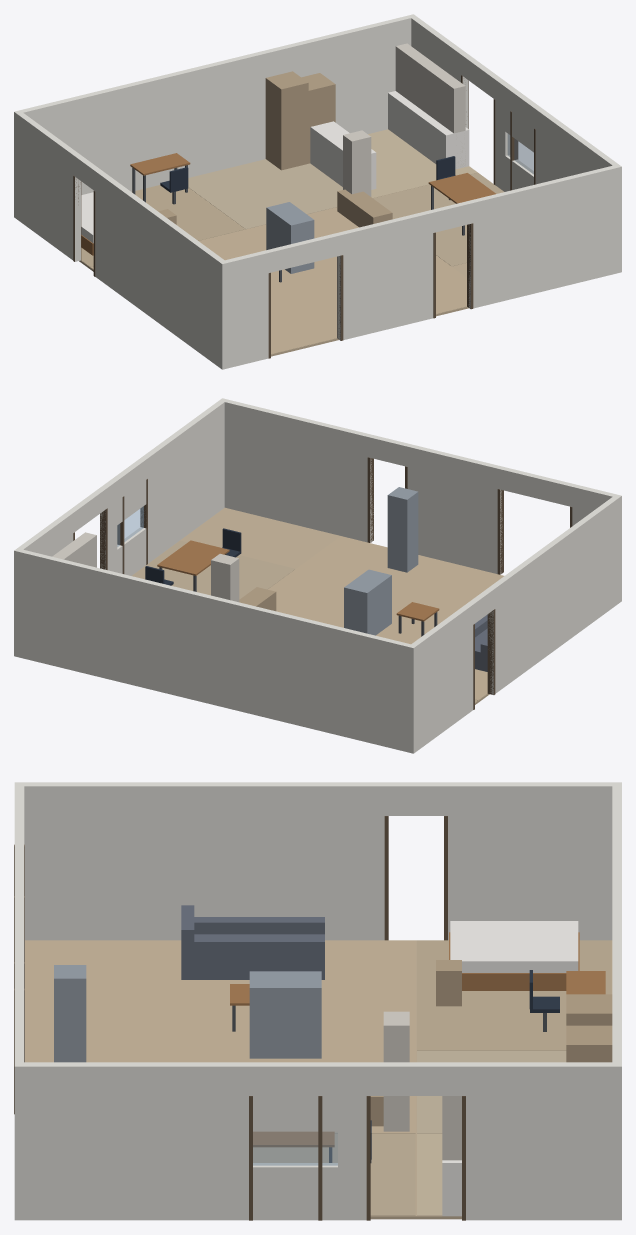
The model's file is apartment-auto2.glb.
The picture shows the model from 3 angles, top to bottom: view 1: azimuth 30°, elevation 25°; view 2: azimuth 150°, elevation 25°; view 3: azimuth 270°, elevation 25°; orthographic projection. The views are drawn at different scales.
Visible parts, largest first — view 1: wall_south (×3), wall_north, wall_west (×2), floor_living_room, wall_east (×3), floor_hallway, laundry_closet_body, upper_cabinets_east_body, counter_east_body, floor_kitchen, floor_bedroom, floor_dining_room (+17 smaller); view 2: wall_north, wall_south (×3), wall_west (×2), floor_living_room, wall_east (×3), floor, exercise_bike_body, floor_dining_room, coat_tree_body, dining_window_header, balcony_door_header, dining_table_top (+12 smaller); view 3: wall_west (×2), wall_east (×3), floor_living_room, floor_bedroom, dining_window_header, bed_mattress, exercise_bike_body, dining_window_sill, floor_dining_room, sofa_arm (×2), wall_north, sofa_seat (+22 smaller).
Boxes of the visible parts, box(x1,y1,x2,y2) form: wall_south (×3): box(219, 164, 621, 369); wall_north: box(14, 14, 416, 219); wall_west (×2): box(17, 113, 224, 366); floor_living_room: box(91, 207, 466, 354); wall_east (×3): box(411, 16, 618, 191); floor_hallway: box(188, 159, 342, 229); laundry_closet_body: box(265, 71, 308, 170); upper_cabinets_east_body: box(395, 43, 465, 167); counter_east_body: box(388, 91, 469, 169); floor_kitchen: box(368, 129, 477, 198); floor_bedroom: box(81, 185, 244, 267); floor_dining_room: box(373, 173, 503, 266); wall_north: box(14, 548, 416, 753); wall_south (×3): box(219, 398, 621, 603); wall_west (×2): box(411, 497, 618, 750); floor_living_room: box(268, 536, 503, 700); wall_east (×3): box(17, 400, 224, 572); floor: box(133, 507, 489, 704); exercise_bike_body: box(344, 569, 391, 635); floor_dining_room: box(132, 540, 295, 599); coat_tree_body: box(387, 487, 418, 572); dining_window_header: box(112, 453, 152, 524); balcony_door_header: box(500, 467, 572, 506); dining_table_top: box(157, 540, 229, 575); wall_west (×2): box(24, 782, 612, 940); wall_east (×3): box(24, 1062, 612, 1220); floor_living_room: box(25, 940, 415, 1133); floor_bedroom: box(417, 940, 611, 1050); dining_window_header: box(233, 1062, 337, 1131); bed_mattress: box(450, 921, 578, 972); exercise_bike_body: box(249, 971, 321, 1058); dining_window_sill: box(233, 1163, 337, 1220); floor_dining_room: box(253, 1133, 415, 1215); sofa_arm (×2): box(181, 917, 324, 953); wall_north: box(612, 782, 621, 1220); sofa_seat: box(181, 934, 324, 979).
Bounding box in the file's own units: 10.32 × 2.65 × 9.31.
